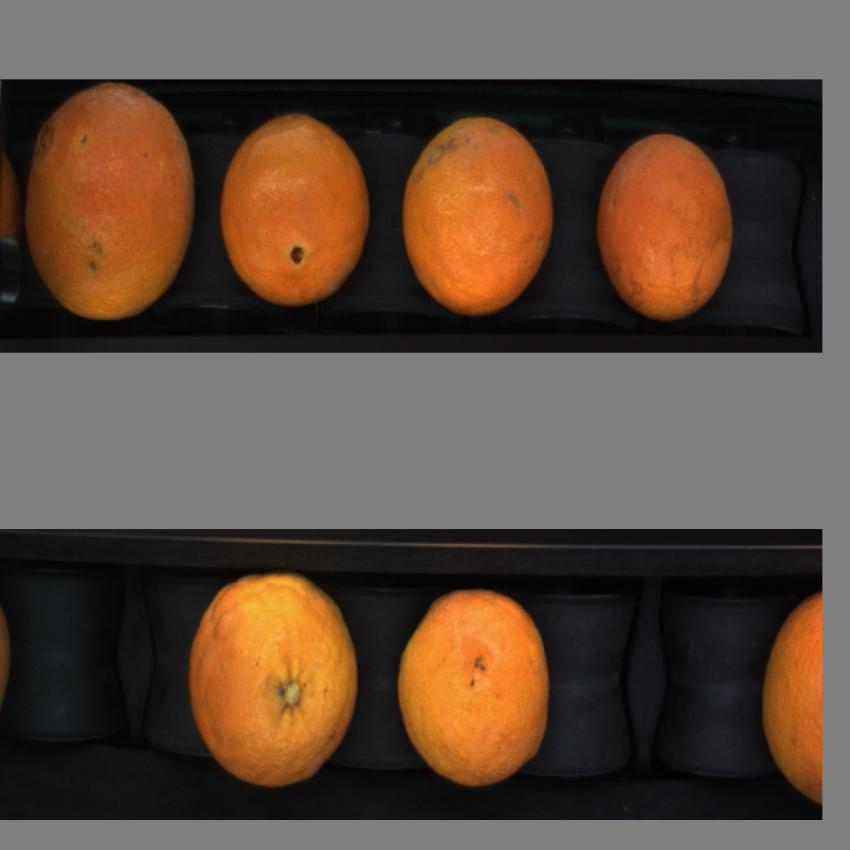Buen estado: (185, 564, 366, 796), (396, 580, 571, 794), (404, 107, 556, 340), (214, 102, 370, 317), (752, 580, 823, 806)
Mal estado: (23, 86, 195, 321), (593, 131, 753, 322)
